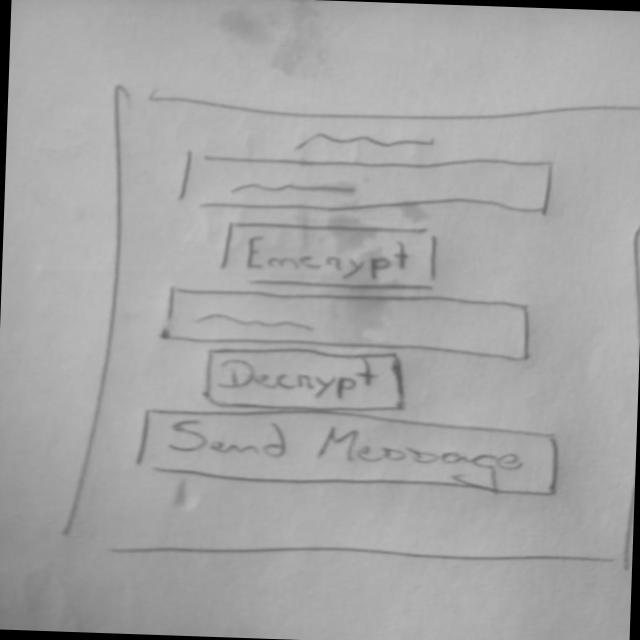button: (131, 402, 574, 501), (212, 216, 442, 292), (195, 340, 414, 417)
container: (63, 80, 640, 576)
input: (159, 284, 540, 363), (172, 148, 566, 220)
text: (276, 120, 446, 160)
